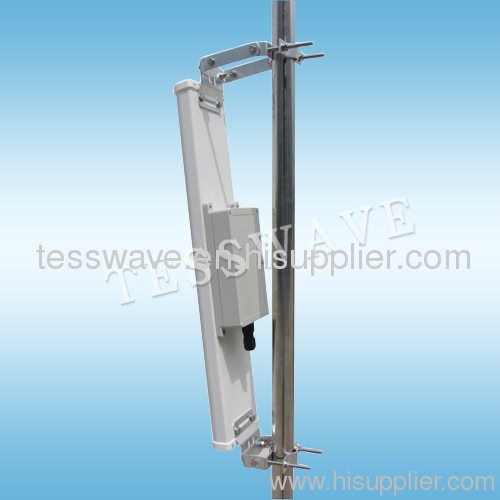sa: (159, 53, 356, 466)
